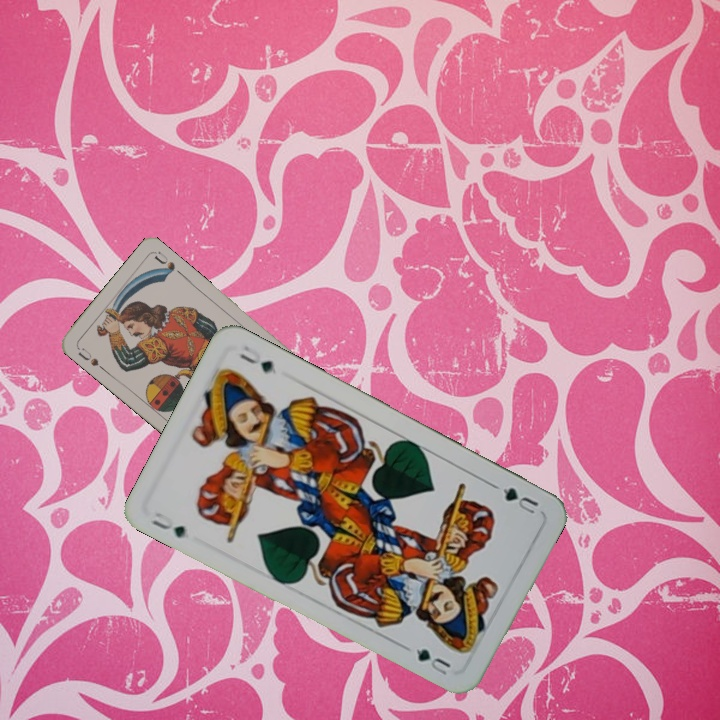GU: (489, 480, 541, 517), (147, 508, 188, 541)
SU: (73, 343, 107, 373)
